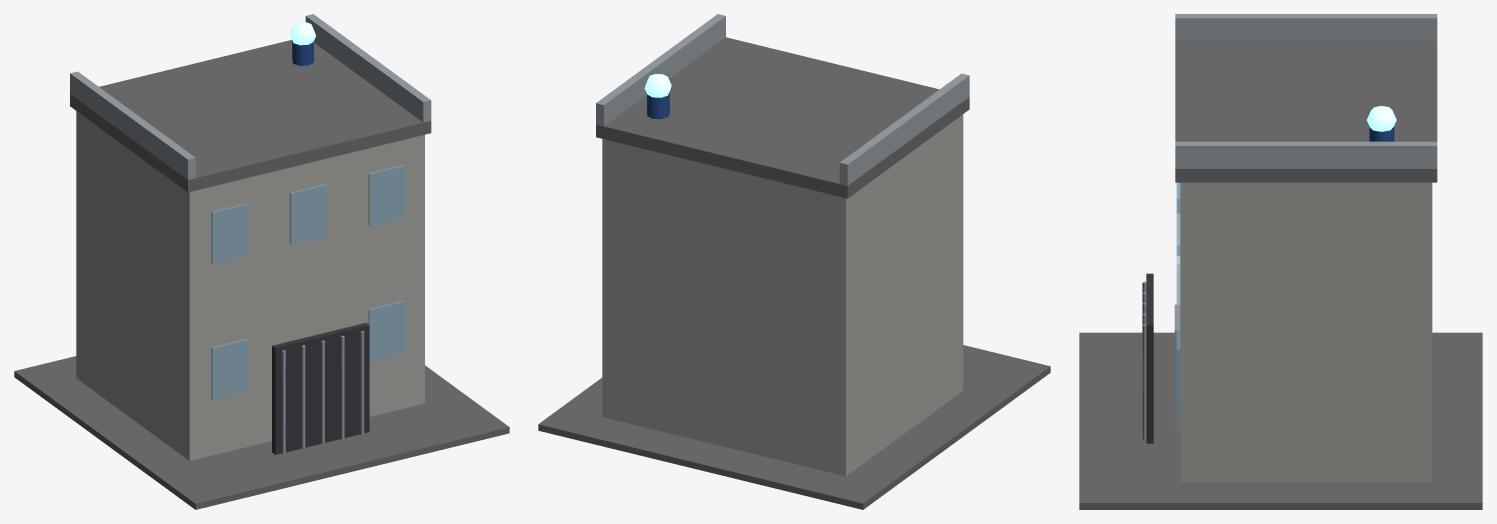
Rendered from bld_special_police_a06_lod1.glb.
The picture shows the model from 3 angles, left to right: view 1: azimuth 30°, elevation 25°; view 2: azimuth 150°, elevation 25°; view 3: azimuth 270°, elevation 25°; orthographic projection. The views are drawn at different scales.
Parts seen in each view (by area): view 1: body; view 2: body; view 3: body.
Part boxes in pixels (<box>): body: <box>14,14,509,509</box>; body: <box>538,14,1050,509</box>; body: <box>1079,14,1482,509</box>.
Bounding box in the file's own units: 8 × 8 × 8.
